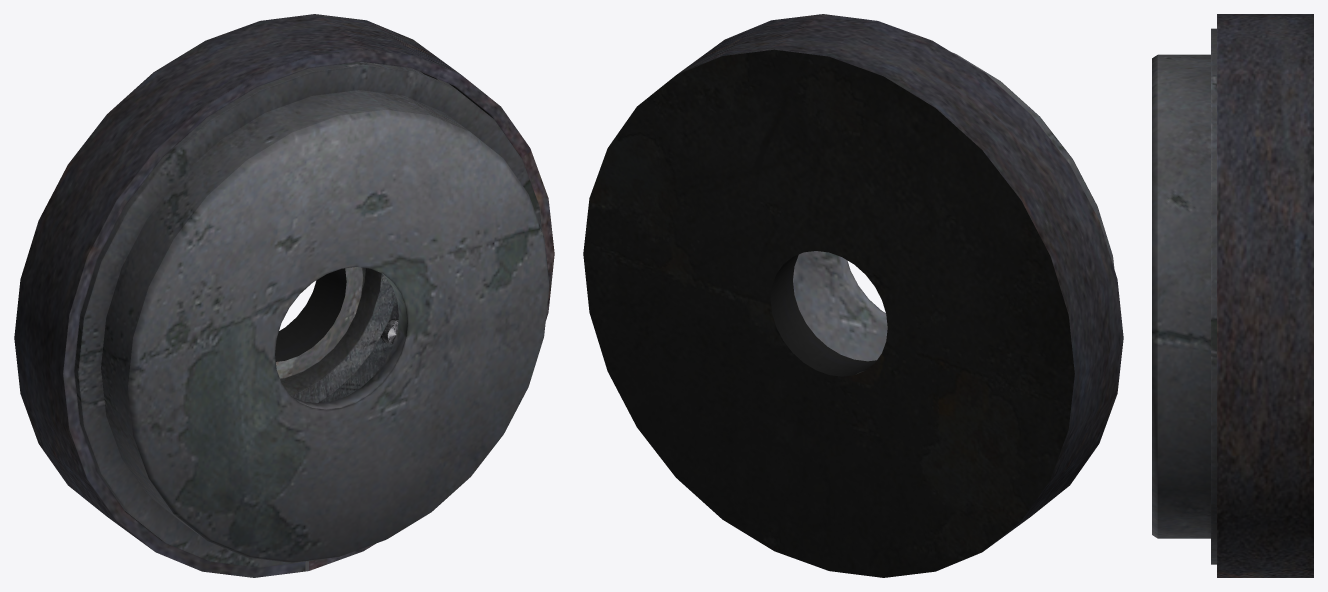
File: gszd.FBX
3 renders of one model, left to right at view 1: azimuth 30°, elevation 25°; view 2: azimuth 150°, elevation 25°; view 3: azimuth 270°, elevation 25°, orthographic.
Parts seen in each view (by area): view 1: gszd; view 2: gszd; view 3: gszd.
Boxes of the visible parts, x1,y1,x2,y2 form: gszd: (14, 14, 554, 577); gszd: (583, 14, 1123, 577); gszd: (1152, 14, 1313, 577).
Bounding box in the file's own units: 44.11 × 44.11 × 12.66.
Materials: 1 (1 with a texture image).
